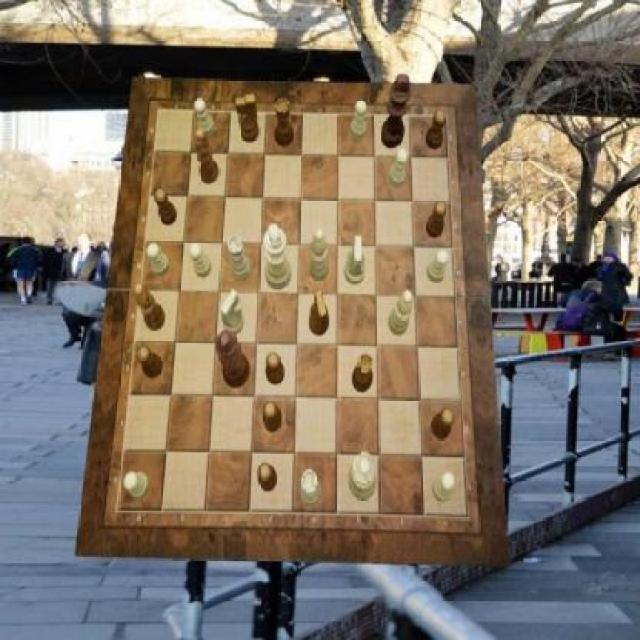bishop: (134, 283, 166, 331), (196, 130, 220, 186)
black-bishop: (382, 74, 412, 148)
black-king: (236, 94, 260, 141), (309, 291, 330, 336)
black-knight: (136, 344, 162, 378), (154, 190, 177, 226), (426, 202, 447, 239), (430, 408, 454, 440), (426, 111, 446, 149), (266, 354, 286, 386), (263, 401, 282, 434), (257, 465, 277, 492)
black-pawn: (215, 331, 251, 389)
black-queen: (276, 99, 296, 148), (352, 354, 373, 394)
black-rook: (389, 291, 414, 336), (309, 229, 330, 282)
white-bishop: (263, 223, 292, 289)
white-king: (220, 290, 244, 336), (346, 236, 366, 284)
white-knight: (196, 98, 216, 138), (190, 242, 212, 278), (426, 249, 449, 283), (389, 148, 408, 188), (350, 100, 368, 142), (148, 243, 170, 277), (124, 472, 150, 500), (434, 471, 457, 502)
white-pawn: (349, 452, 377, 500)
white-queen: (228, 235, 252, 281), (298, 470, 321, 506)
